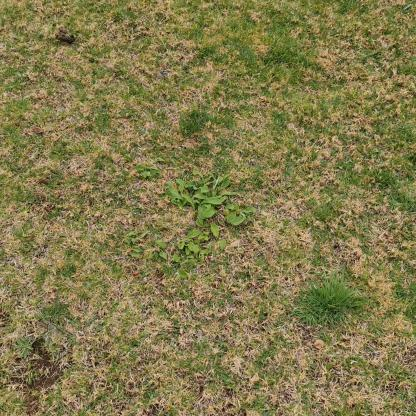Weeds: (124, 171, 256, 281), (133, 158, 166, 181), (13, 336, 36, 360)
